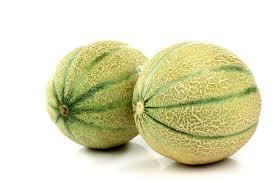cantaloupe: (131, 39, 262, 165), (45, 39, 149, 150)
